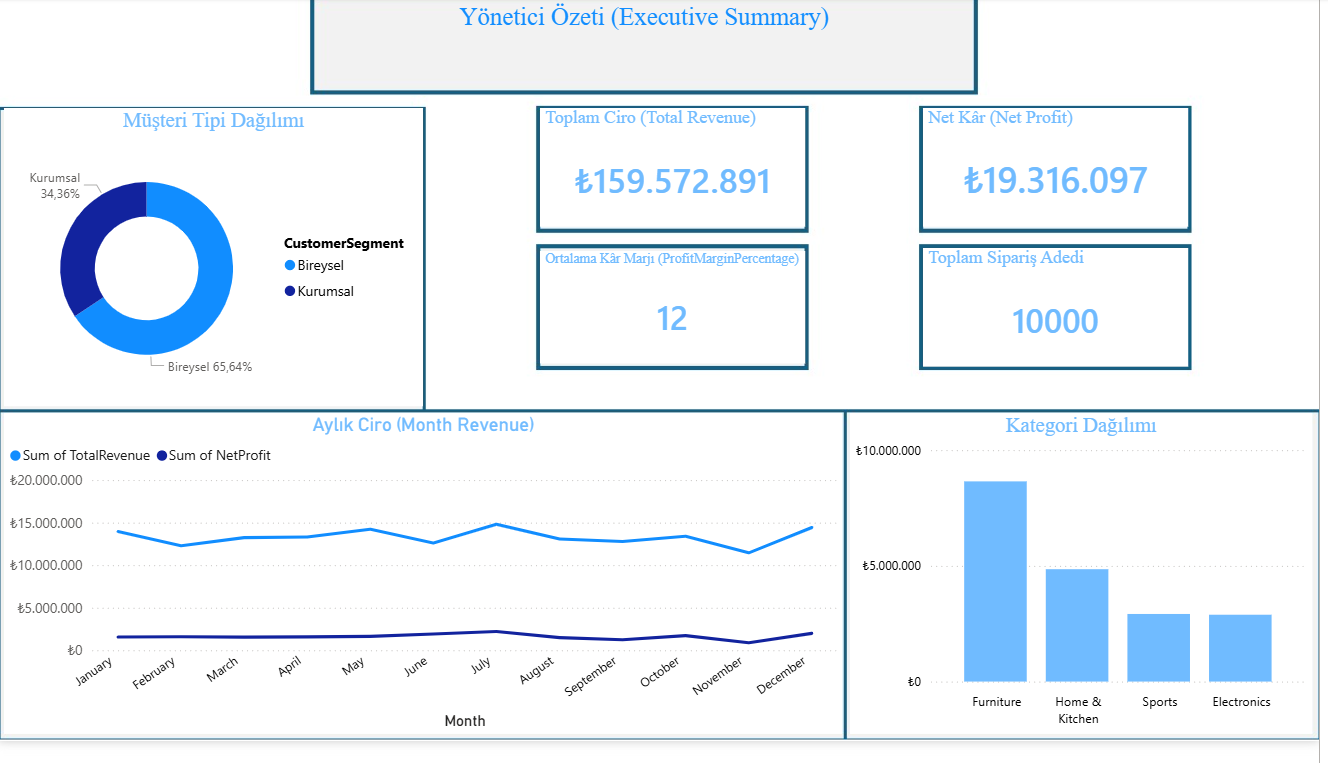

This screenshot's page, from the dashboard's own definition file:
{"tool":"powerbi","page":{"name":"Yönetici Özeti (Executive Summary)","canvas":[1280,720],"ordinal":0},"visuals":[{"type":"textbox","box":[306.4,0,640,89.5],"z":1000},{"type":"cardVisual","title":"Toplam Ciro (Total Revenue)","fields":{"Data":["Sum(vW_Dashboard_Base.TotalRevenue)"]},"box":[524.9,106.4,257.1,115.3],"z":2000},{"type":"cardVisual","title":"Net Kâr (Net Profit)","fields":{"Data":["Sum(vW_Dashboard_Base.NetProfit)"]},"box":[896.5,106.4,257.1,115.3],"z":3000},{"type":"cardVisual","title":"Ortalama Kâr Marjı (ProfitMarginPercentage)","fields":{"Data":["Dim_Customers.Total_Profit_Margine"]},"box":[524.9,244.7,257.1,109.1],"z":4000},{"type":"cardVisual","title":"Toplam Sipariş Adedi","fields":{"Data":["CountNonNull(Fact_Orders.Quantity)"]},"box":[896.5,242.1,257.1,115.3],"z":5000},{"type":"lineChart","title":"Aylık Ciro (Month Revenue)","fields":{"Category":["vW_Dashboard_Base.OrderDate.Variation.Date Hierarchy.Month"],"Y":["Sum(vW_Dashboard_Base.TotalRevenue)","Sum(vW_Dashboard_Base.NetProfit)"]},"box":[6.2,402.6,812.2,311.2],"z":6000},{"type":"clusteredColumnChart","title":"Kategori Dağılımı","fields":{"Category":["vW_Dashboard_Base.ProductCategory"],"Y":["Sum(vW_Dashboard_Base.NetProfit)"]},"box":[825.5,402.6,447.8,311.2],"z":7000},{"type":"donutChart","title":"Müşteri Tipi Dağılımı","fields":{"Category":["vW_Dashboard_Base.CustomerSegment"],"Y":["Sum(vW_Dashboard_Base.TotalRevenue)"]},"box":[6.3,106.7,406.3,288.8],"z":8000}]}

Visuals, with their boxes in screenshot pixels (x1, y1, x2, y2), scaled from the page's 1280x720 canvas onto the 1328x763 screenshot:
textbox: [318,0,982,95]
"Toplam Ciro (Total Revenue)" cardVisual: [545,113,811,235]
"Net Kâr (Net Profit)" cardVisual: [930,113,1197,235]
"Ortalama Kâr Marjı (ProfitMarginPercentage)" cardVisual: [545,259,811,375]
"Toplam Sipariş Adedi" cardVisual: [930,257,1197,379]
"Aylık Ciro (Month Revenue)" lineChart: [6,427,849,756]
"Kategori Dağılımı" clusteredColumnChart: [856,427,1321,756]
"Müşteri Tipi Dağılımı" donutChart: [7,113,428,419]
